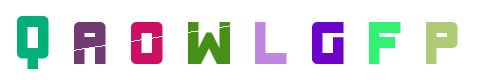A: (106, 0, 186, 80)
F: (287, 0, 367, 80)
G: (217, 0, 297, 80)
L: (210, 0, 290, 80)
O: (137, 0, 217, 80)
P: (351, 0, 431, 80)
Q: (49, 0, 129, 80)
W: (168, 0, 248, 80)
